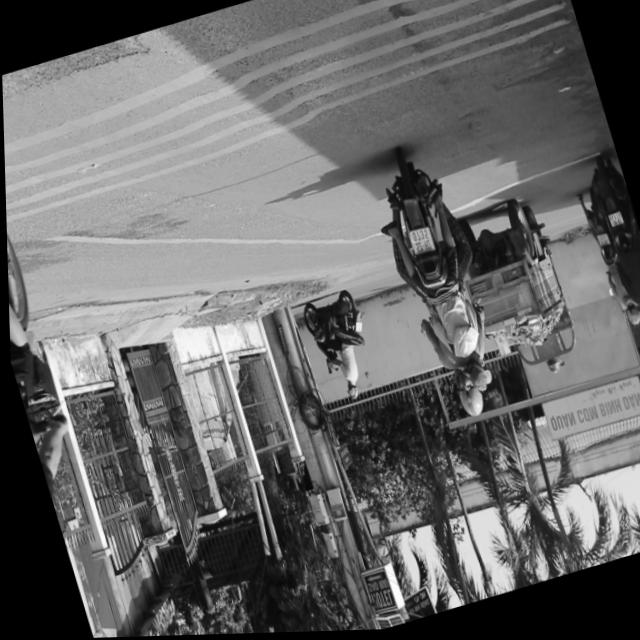helmet: (450, 377, 485, 424)
licenseplate: (4, 165, 119, 610), (359, 143, 514, 436)
motorcyclist: (459, 354, 490, 397)
nohelmet: (407, 229, 434, 258)
